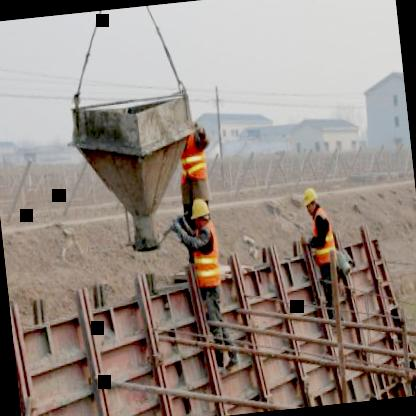helmet: (188, 193, 212, 231), (300, 184, 322, 218)
